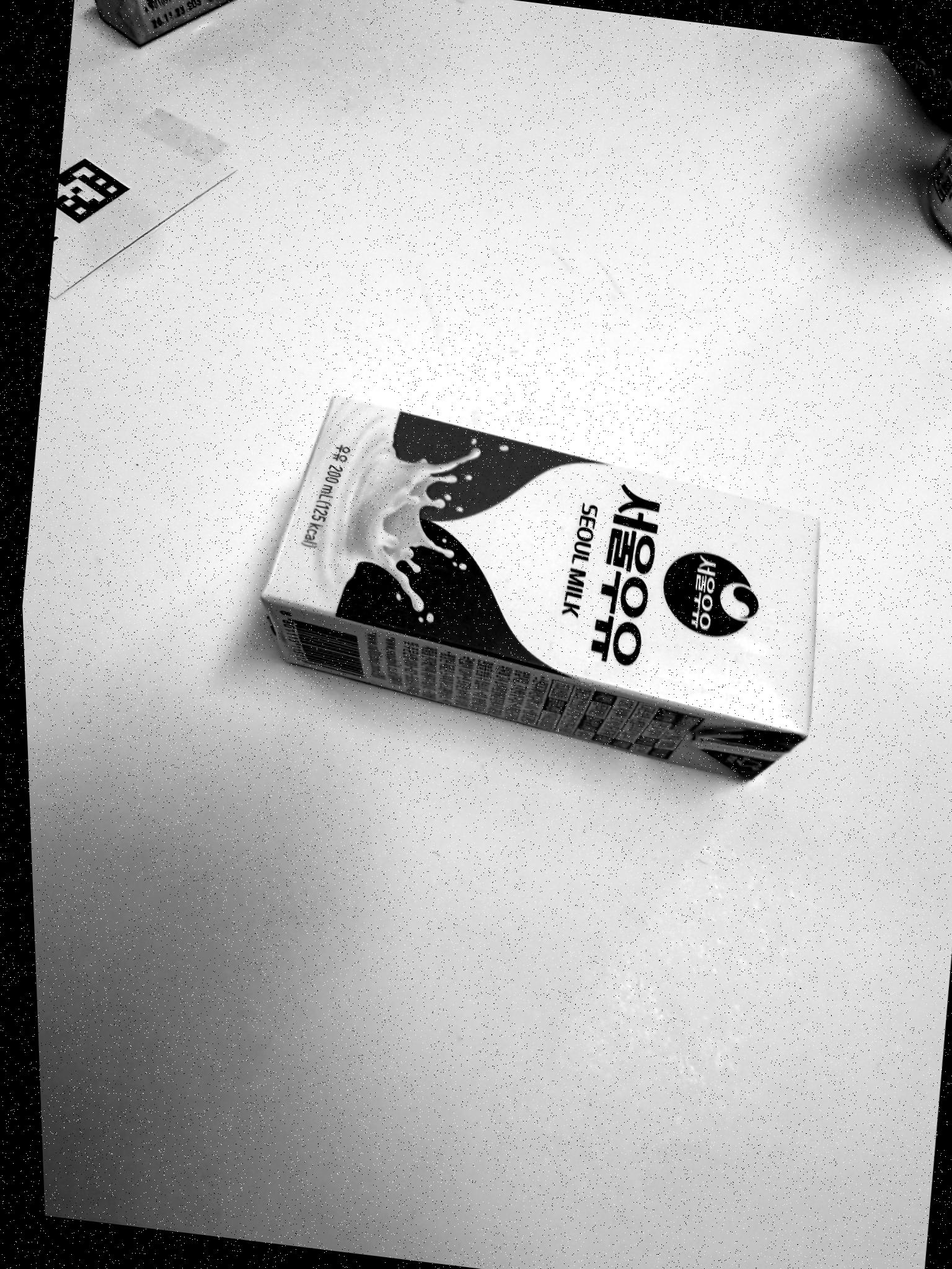milk_green: (263, 393, 822, 786)
